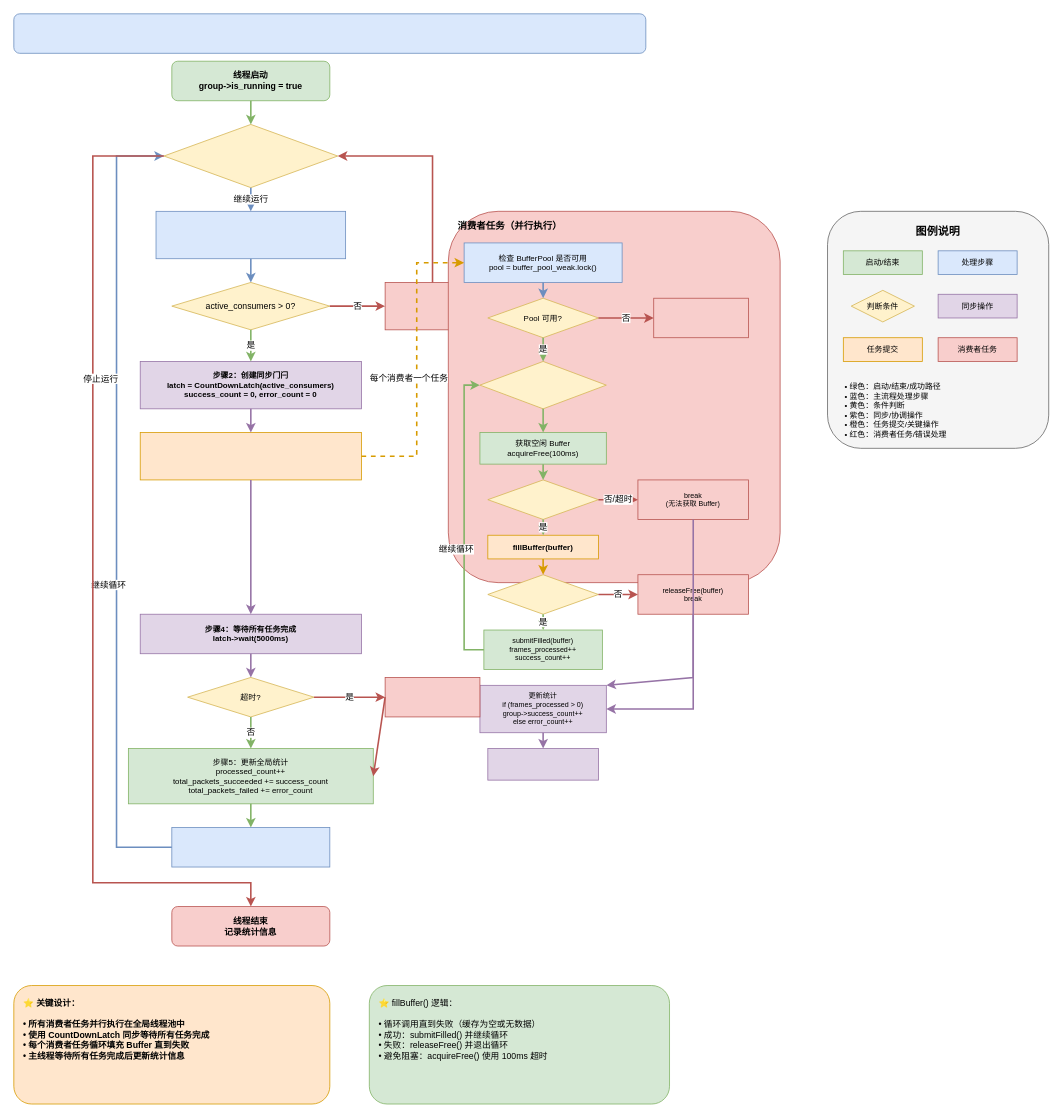
Image size: 1063x1118. Some labels were removed from this diagram. Each missing label, with the box of its shape:
Buffer 获取成功?: (487, 479, 598, 519)
error_count++ countDown() return: (653, 297, 749, 338)
groupThreadFunc() 执行流程（Group 工作线程）: (13, 13, 646, 53)
latch->countDown(): (487, 748, 598, 780)
主循环开始 while (is_running): (163, 124, 338, 188)
休眠 100ms continue: (384, 282, 480, 330)
填充成功?: (487, 574, 598, 614)
延迟 1ms sleep_for(1ms): (171, 827, 330, 867)
循环填充 Buffer while (true): (479, 361, 606, 409)
步骤1：统计活跃消费者 遍历所有 Connector 和 Consumer 检查 worker->isOpen(): (155, 211, 346, 259)
步骤3：提交任务到线程池 遍历所有活跃消费者 thread_pool.detach_task(...): (139, 432, 361, 480)
记录超时错误: (384, 677, 480, 717)
